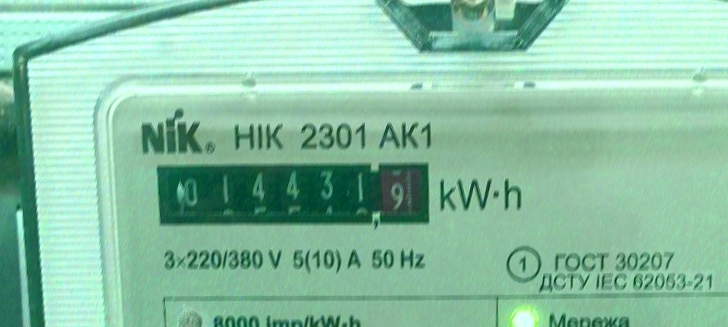0: (181, 174, 202, 208)
1: (217, 171, 236, 204), (354, 170, 368, 203)
3: (317, 169, 337, 201)
4: (248, 169, 270, 202), (283, 167, 302, 201)
9: (388, 179, 406, 211)
screen: (147, 146, 445, 242)
